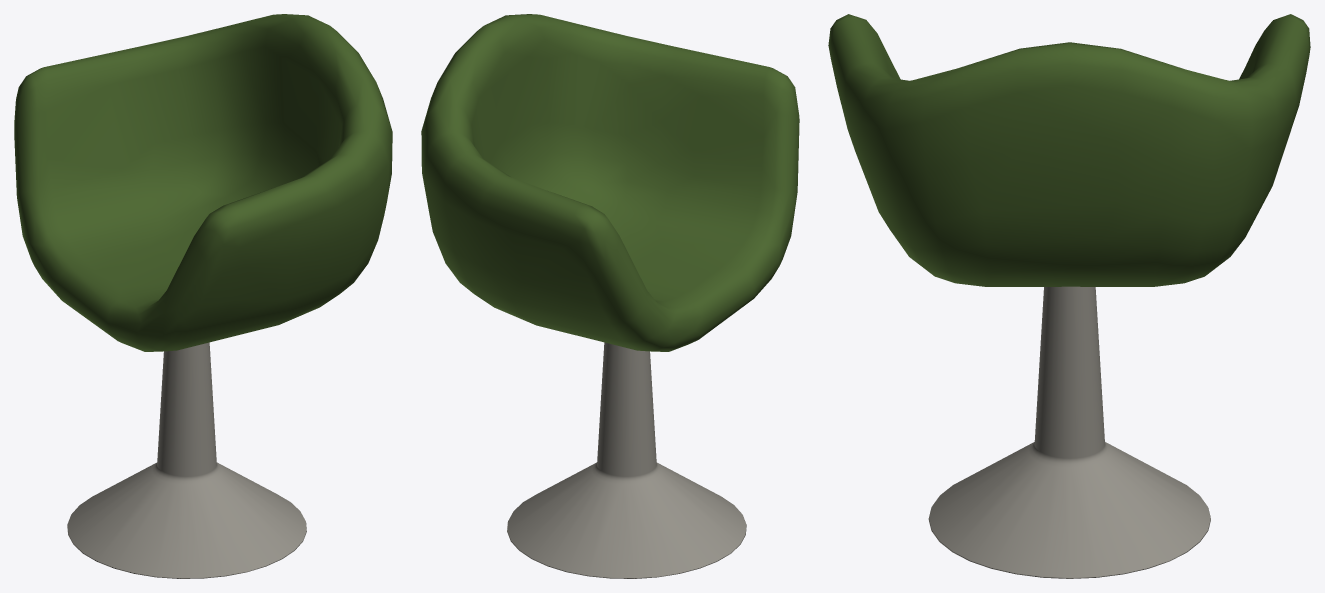
The model's file is chair_09_green.fbx.
3 renders of one model, left to right at view 1: azimuth 30°, elevation 25°; view 2: azimuth 150°, elevation 25°; view 3: azimuth 270°, elevation 25°, orthographic. The views are drawn at different scales.
Visible parts, largest first — view 1: chair_09_green; view 2: chair_09_green; view 3: chair_09_green.
Part boxes in pixels (<box>): chair_09_green: <box>14,14,392,578</box>; chair_09_green: <box>421,14,799,578</box>; chair_09_green: <box>828,14,1310,578</box>.
Bounding box in the file's own units: 53.94 × 92.73 × 73.24.
2 materials, 2 textured.
